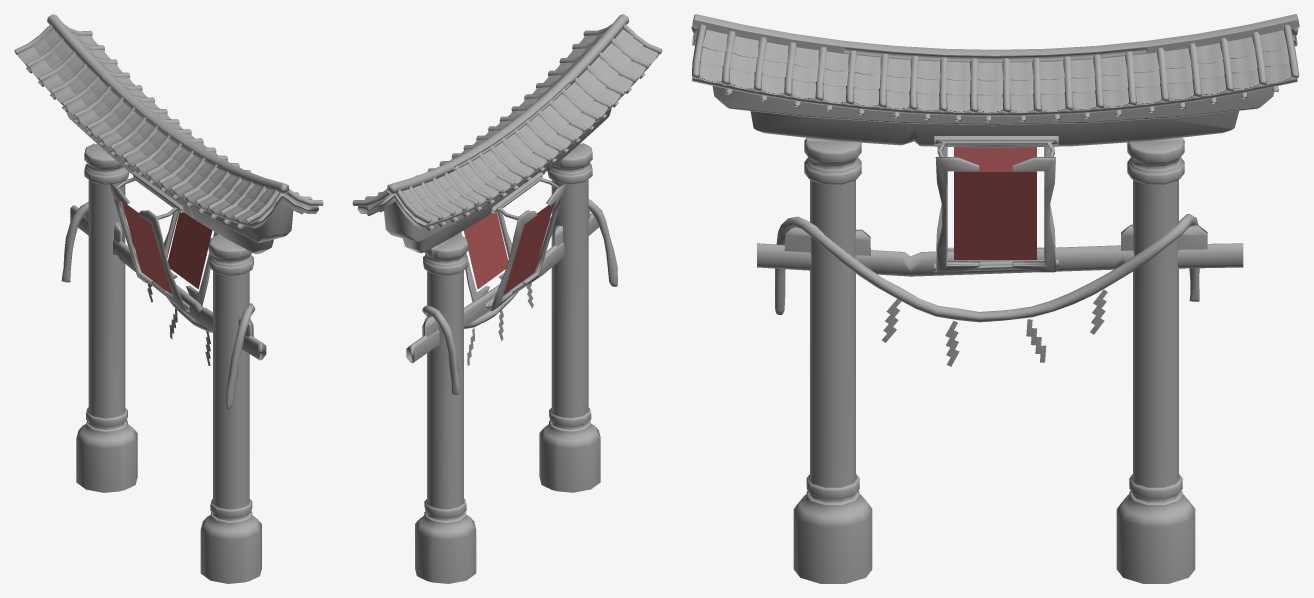
Rendered from torii_hologram_low.fbx.
3 views of the same model, side by side, from view 1: azimuth 30°, elevation 25°; view 2: azimuth 150°, elevation 25°; view 3: azimuth 270°, elevation 25° (orthographic). The views are drawn at different scales.
Parts seen in each view (by area): view 1: polySurface1122, polySurface1120; view 2: polySurface1122, polySurface1120; view 3: polySurface1122, polySurface1120.
Boxes of the visible parts, bbox=[...] form: polySurface1122: bbox=[14, 14, 323, 583]; polySurface1120: bbox=[122, 203, 212, 294]; polySurface1122: bbox=[352, 14, 662, 583]; polySurface1120: bbox=[463, 203, 553, 294]; polySurface1122: bbox=[691, 14, 1299, 583]; polySurface1120: bbox=[954, 147, 1036, 259].
Size of the model in its own units: 2.81 by 15.01 by 14.97.
